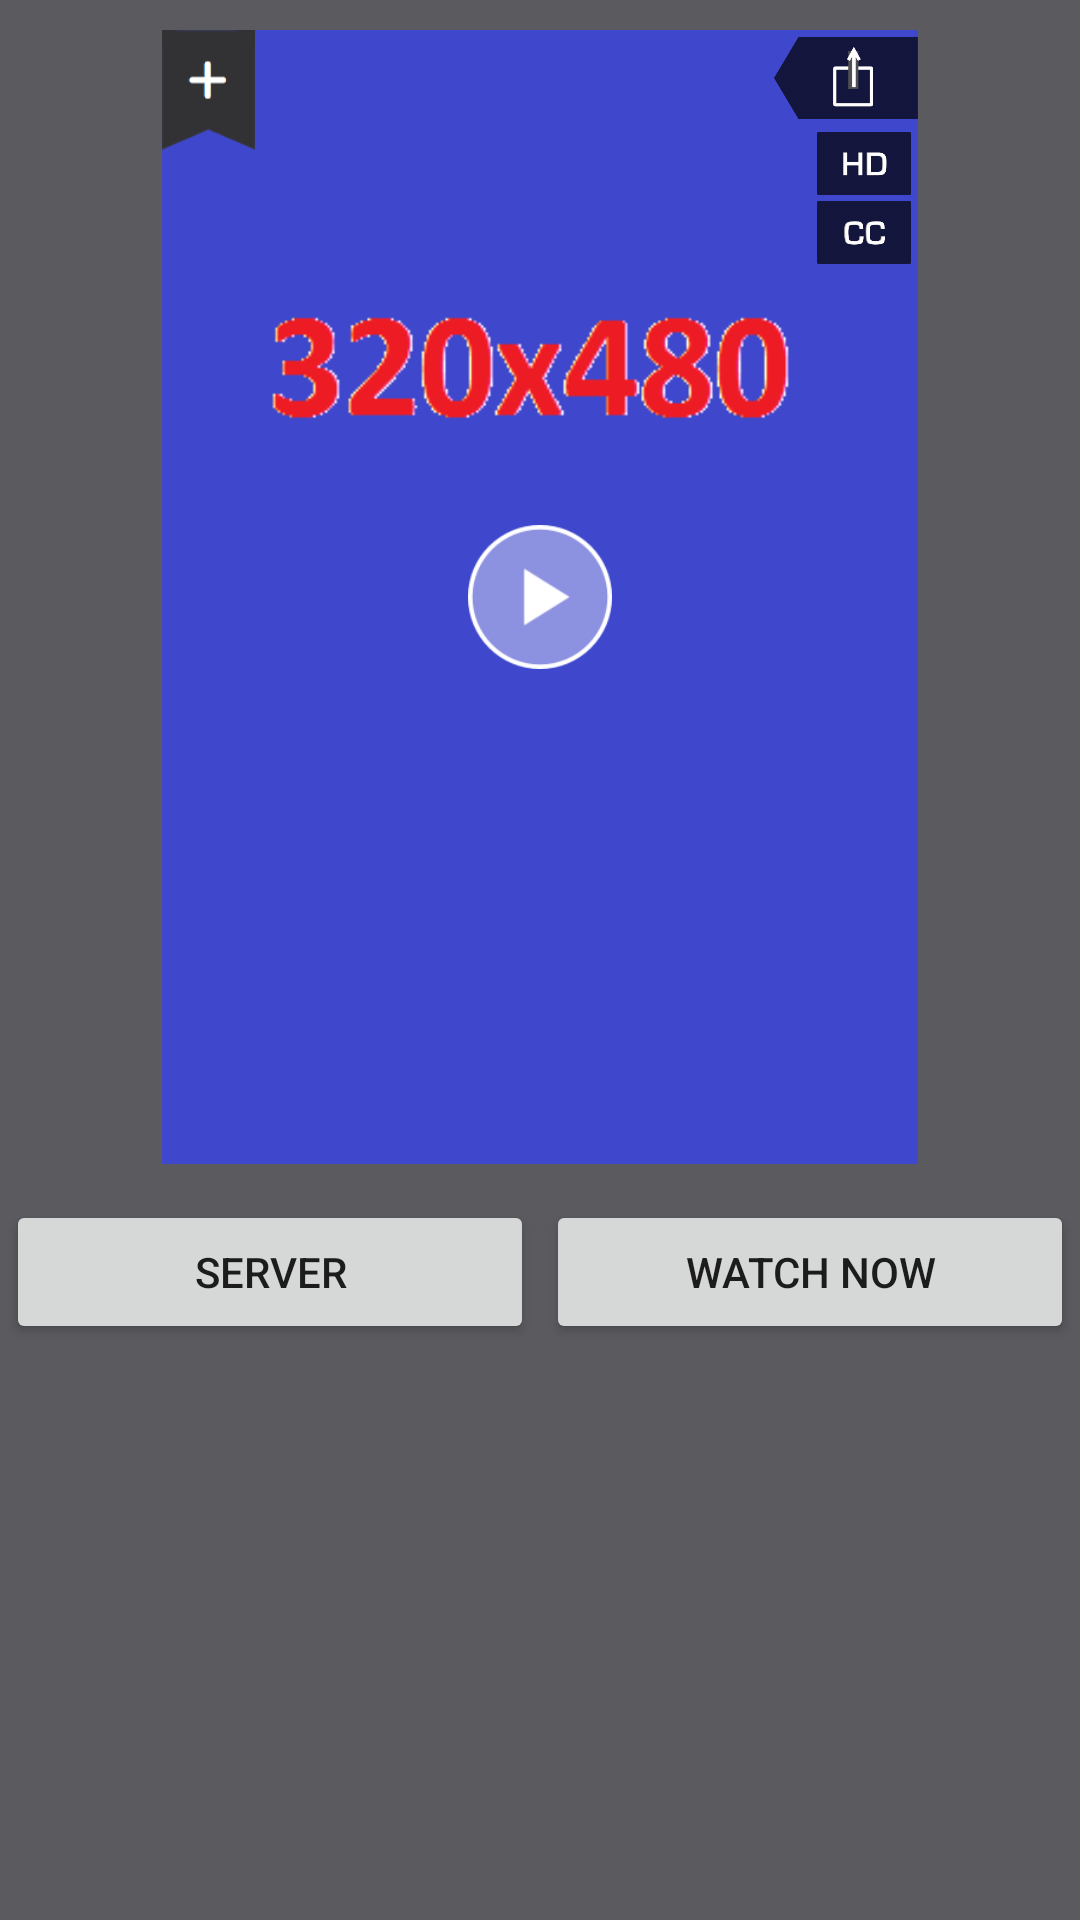

Point at icon controls on the screen. Image size 1080*1920, points as (x,y).
bookmark: (208,90)
play circle: (540,597)
share movie: (846,78)
